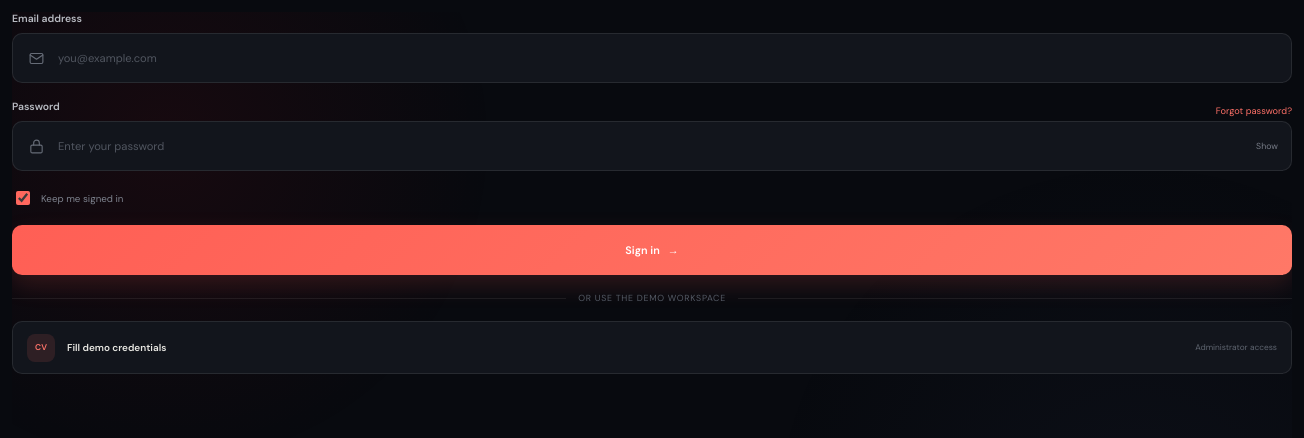
LoginForm › shows an authentication error returned by the login service
Type "member@example.com" into the field labelled "Email address" at (668, 58), box [45,51,1291,65]
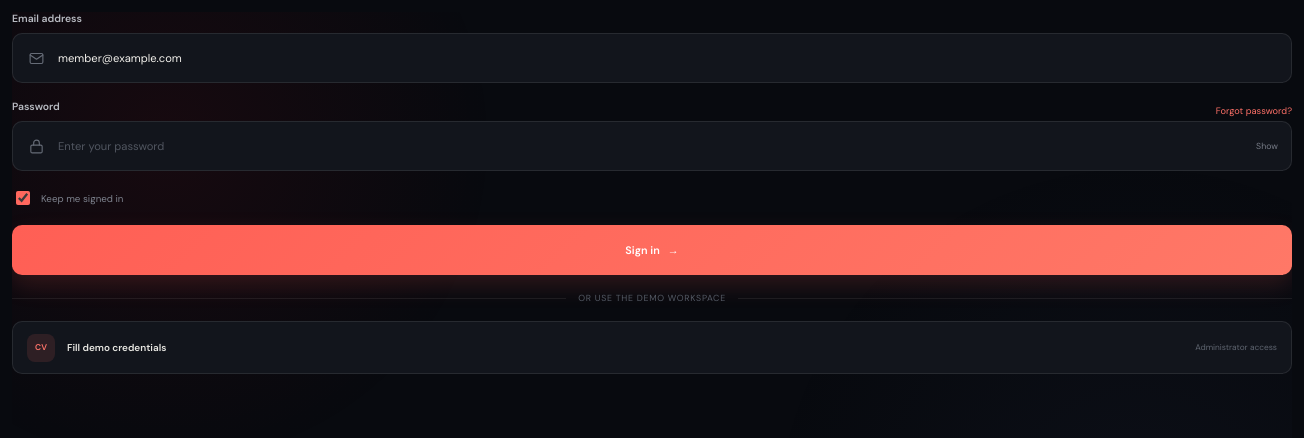
Type "wrong123" into the password field labelled "Password" at (651, 146), box [45,139,1256,153]
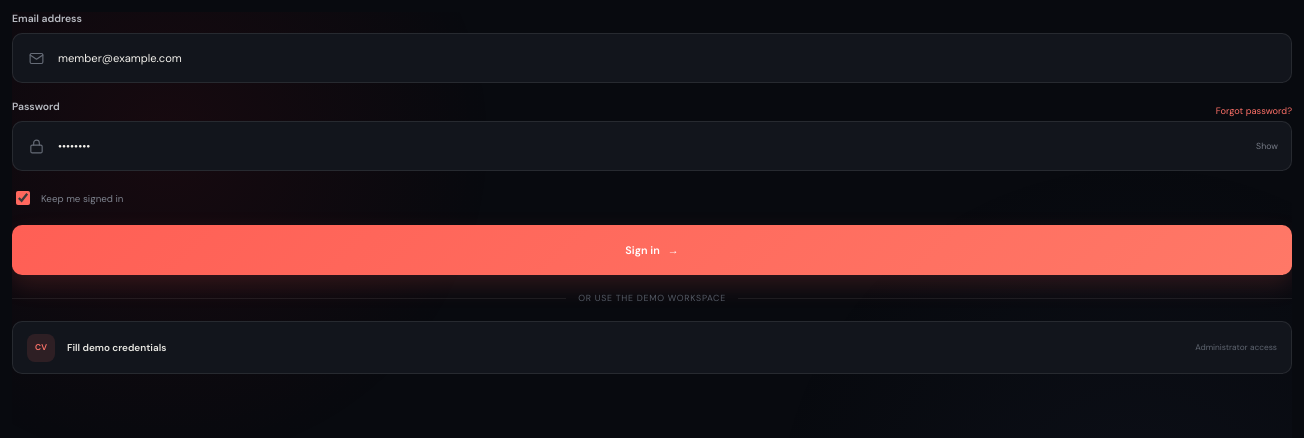
Submit the form "Sign in"
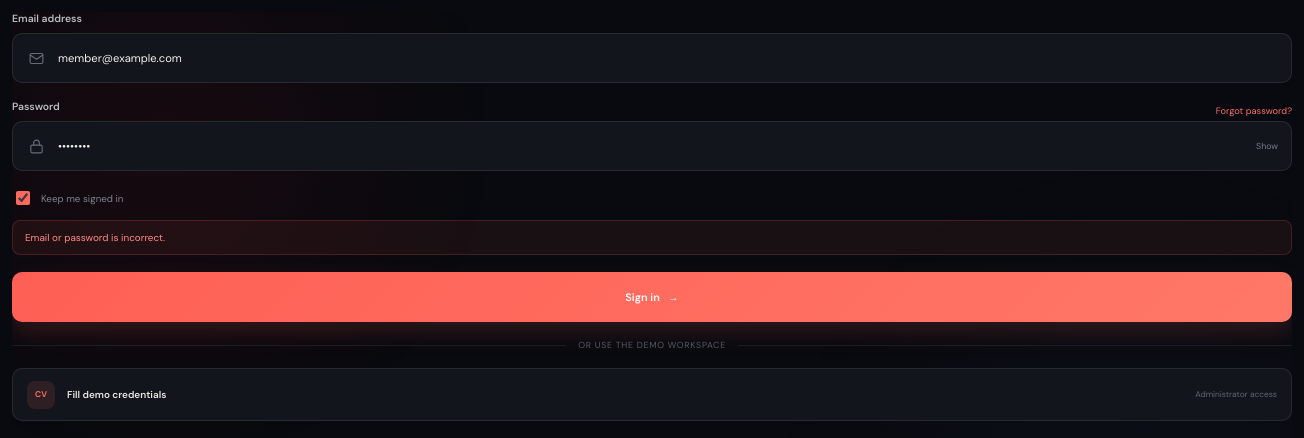
expect the message reads "Email or password is incorrect.": met, box [25,231,165,244]
